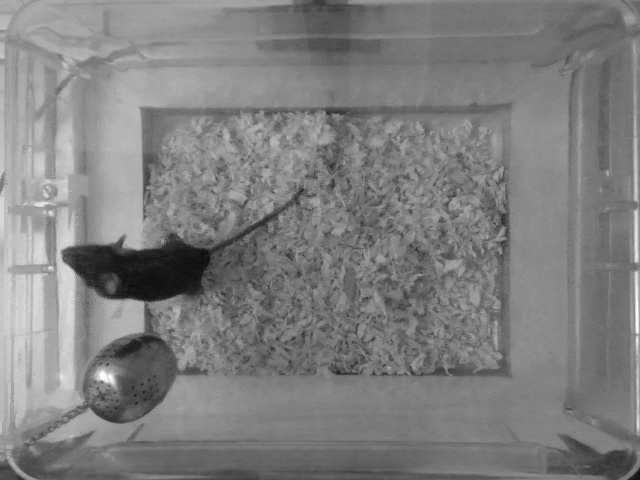mice: (53, 175, 309, 307)
